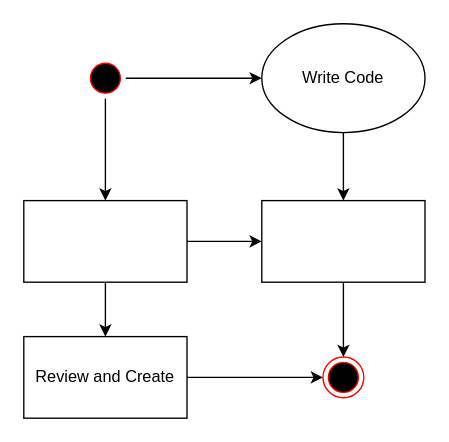
This 449x442 diagram has some shape labels left out. The centre of each missing label's shape, as x and y in pixels:
"Configure Function" goes at [342,240].
"Select Runtime" goes at [104,240].
